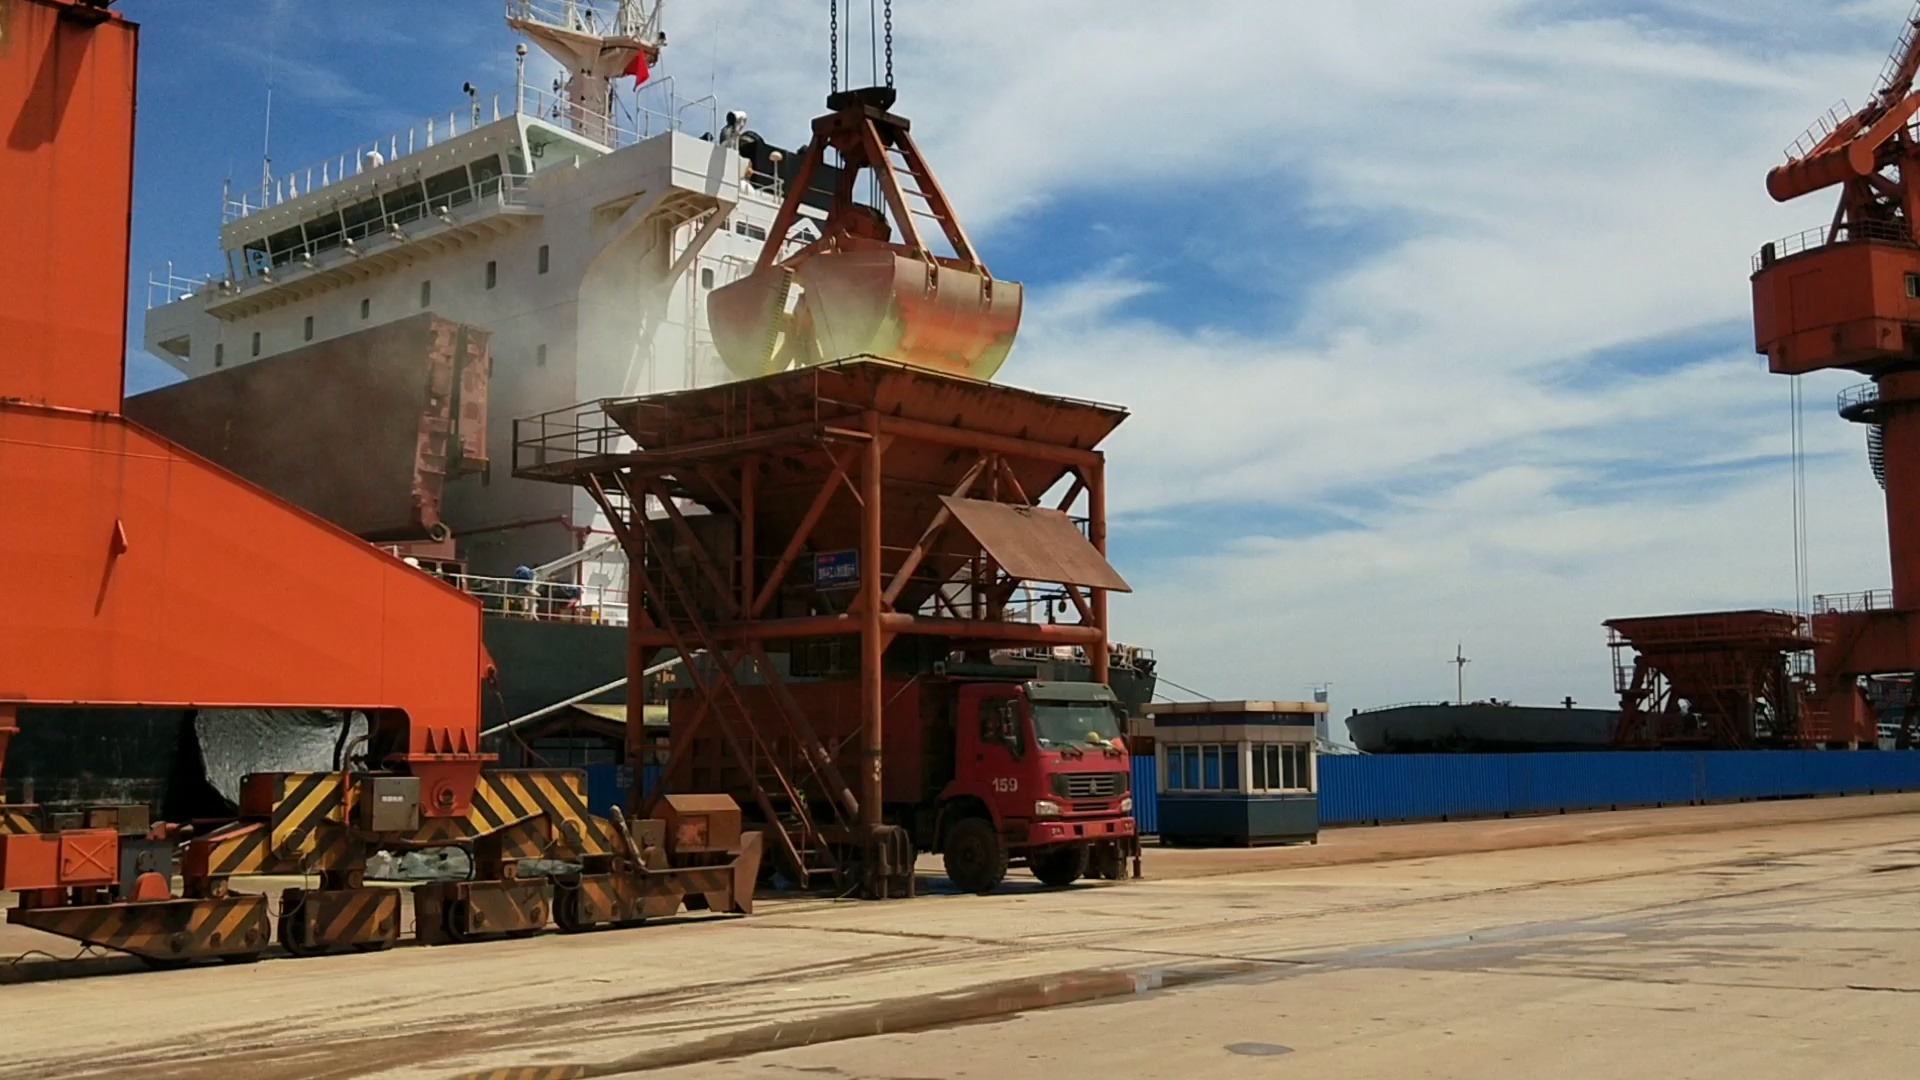dust: (447, 284, 687, 405)
grab: (694, 69, 1033, 407)
truck: (876, 641, 1153, 886)
